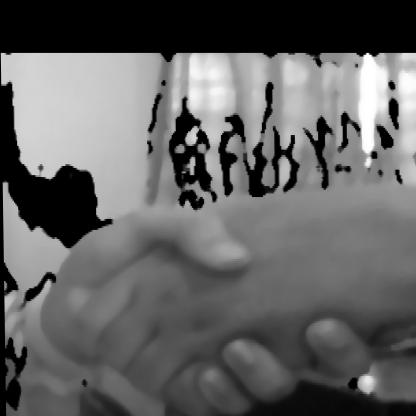handshake: (19, 171, 415, 413)
